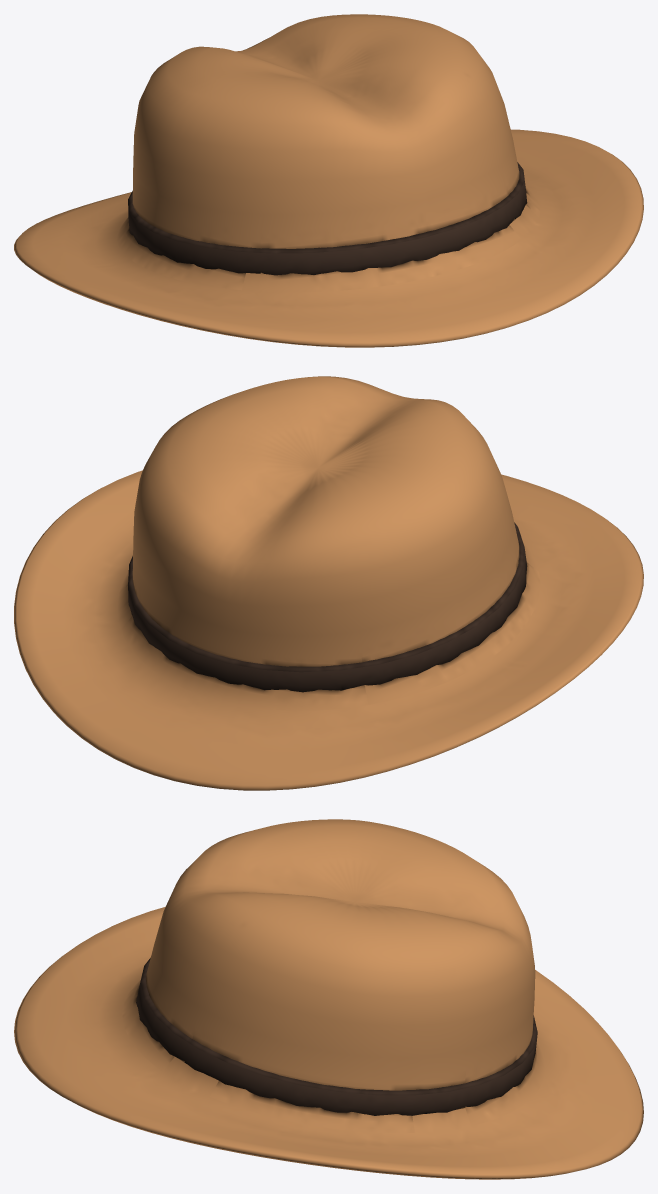
Rendered from hat_cowboy.glb.
3 views of the same model, one above another, from view 1: azimuth 30°, elevation 25°; view 2: azimuth 150°, elevation 25°; view 3: azimuth 270°, elevation 25° (orthographic).
Parts seen in each view (by area): view 1: hat_cowboy; view 2: hat_cowboy; view 3: hat_cowboy.
Part boxes in pixels (x1,y1,x2,y2): hat_cowboy: [14, 14, 643, 347]; hat_cowboy: [14, 376, 643, 790]; hat_cowboy: [14, 819, 643, 1179].
Bounding box in the file's own units: 0.9195 × 0.3906 × 0.9105.
2 materials, 2 textured.
